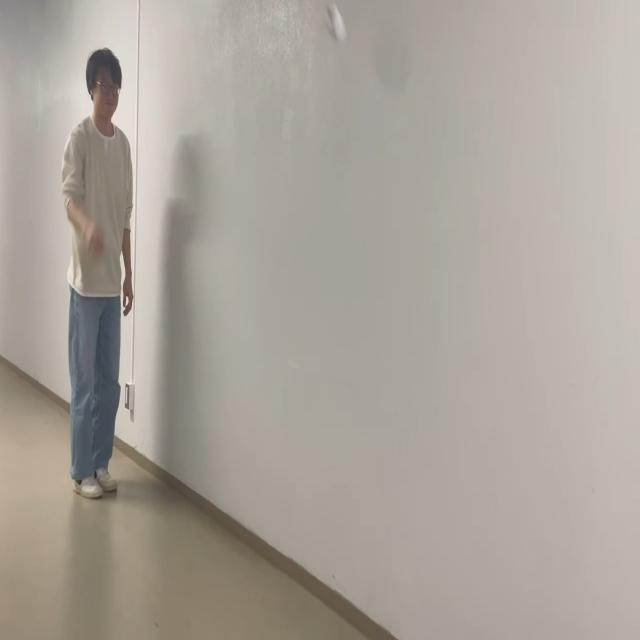paper: (324, 0, 348, 47)
